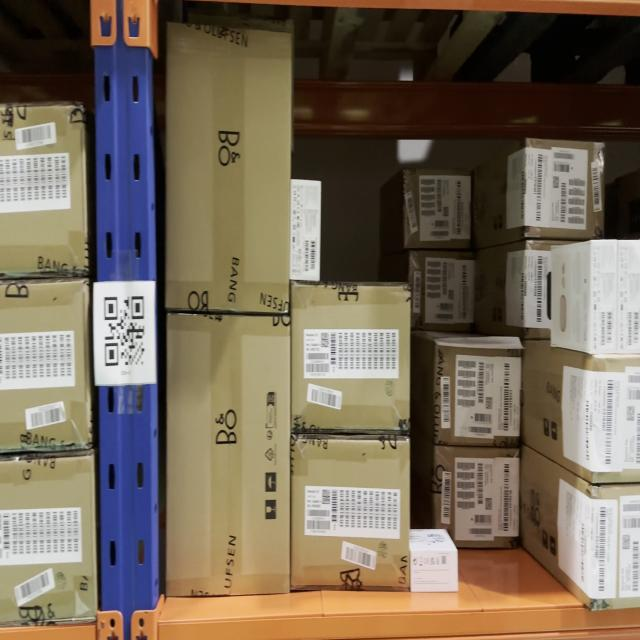box: (167, 19, 291, 310), (168, 310, 292, 592), (290, 436, 415, 594), (290, 278, 408, 432), (0, 278, 92, 449), (0, 456, 95, 619), (3, 100, 86, 276), (434, 344, 522, 446), (436, 445, 521, 545), (528, 139, 607, 237), (405, 170, 480, 258), (410, 252, 480, 332)
